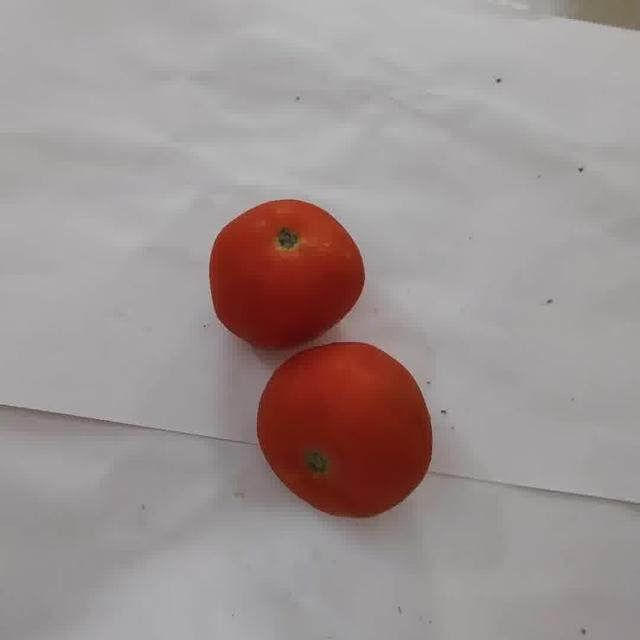Tomato: (257, 343, 433, 517), (210, 200, 364, 349)
